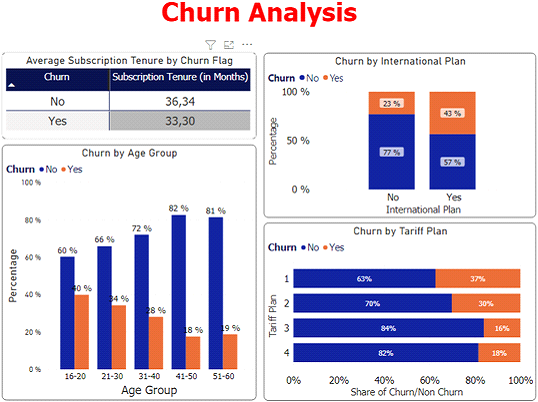

The dashboard page shown, as its layout file describes it:
{"tool":"powerbi","page":{"name":"Tariff Plan, Age Group & International Plan","canvas":[1280,920],"ordinal":1},"visuals":[{"type":"pivotTable","title":"Average Subscription Tenure by Churn Flag","fields":{"Rows":["Assignment Dataset.Churn"],"Values":["Avg(Assignment Dataset.Subscription  Length)"]},"box":[55.4,136.1,567.8,194.9],"z":0},{"type":"clusteredColumnChart","title":"Churn by Age Group","fields":{"Category":["Assignment Dataset.Age Group"],"Y":["Assignment Dataset.Perent of Total"],"Series":["Assignment Dataset.Churn"]},"box":[55.3,342.9,567.9,571.5],"z":1},{"type":"lineStackedColumnComboChart","title":"Churn by International Plan","fields":{"Category":["Assignment Dataset.International Plan"],"Series":["Assignment Dataset.Churn"],"Y":["Assignment Dataset.International Plan Percent of Row Total"]},"box":[639.8,136.4,608.4,368.7],"z":2},{"type":"hundredPercentStackedBarChart","title":"Churn by Tariff Plan","fields":{"Category":["Assignment Dataset.Tariff Plan"],"Y":["Assignment Dataset.Age Group Percent of Row Total"],"Series":["Assignment Dataset.Churn"]},"box":[639.8,518.1,608.4,398.2],"z":3},{"type":"textbox","box":[204.9,3.4,954.1,100.8],"z":4}]}

Visuals, with their boxes on the page's 1280x920 design canvas (x1, y1, x2, y2). These are canvas units, not pixel positions in the 538x402 screenshot, which may show the page scaled, cropped or inside an application window:
"Average Subscription Tenure by Churn Flag" pivotTable: <region>55, 136, 623, 331</region>
"Churn by Age Group" clusteredColumnChart: <region>55, 343, 623, 914</region>
"Churn by International Plan" lineStackedColumnComboChart: <region>640, 136, 1248, 505</region>
"Churn by Tariff Plan" hundredPercentStackedBarChart: <region>640, 518, 1248, 916</region>
textbox: <region>205, 3, 1159, 104</region>
